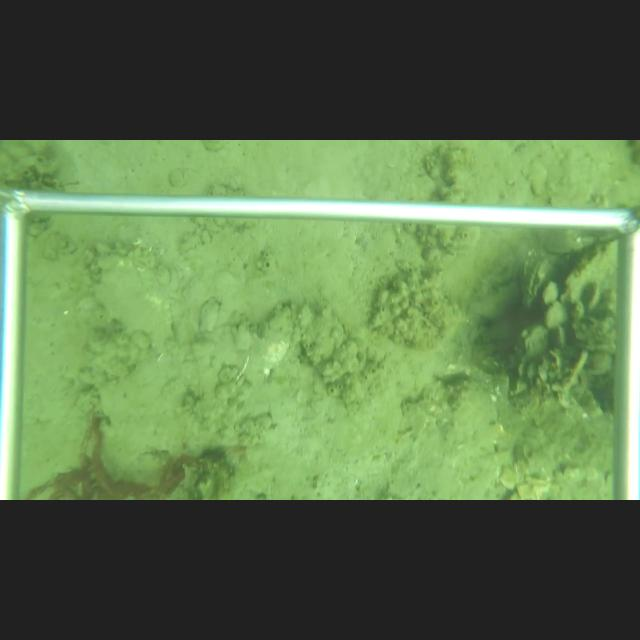Oyster-Closed: (518, 251, 567, 315), (262, 300, 297, 371)
